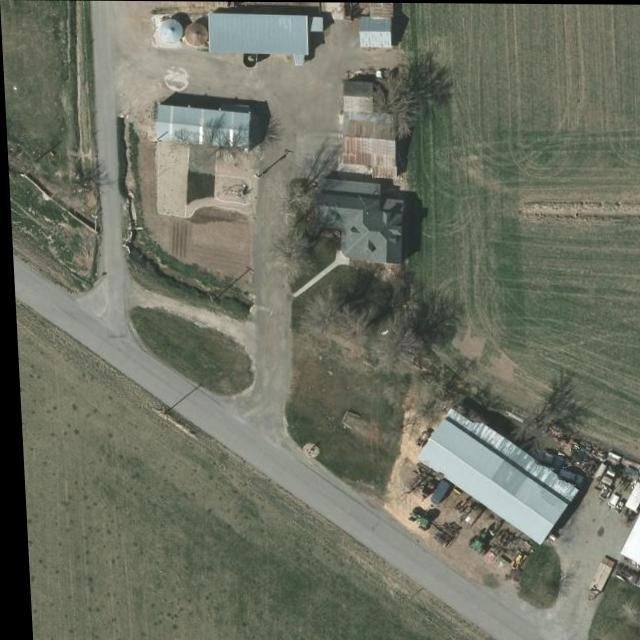vehicle: (526, 439, 562, 472), (552, 464, 581, 487)
